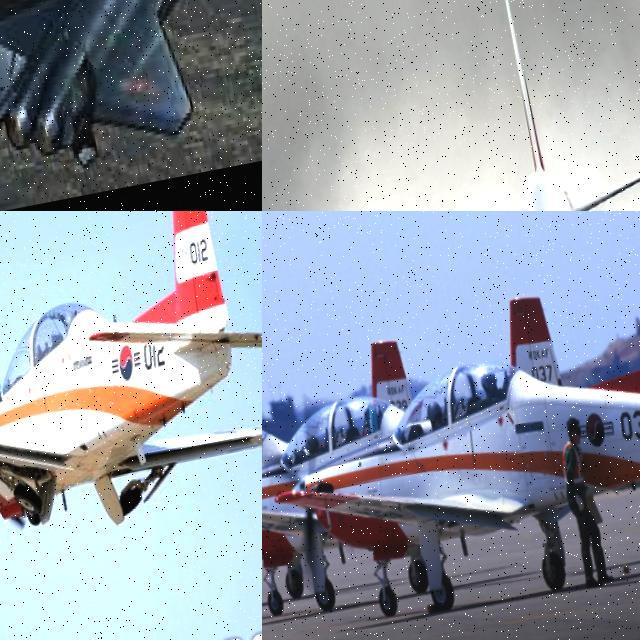A380: (262, 0, 640, 211)
F22: (0, 0, 262, 200)
KT-1: (270, 260, 640, 637), (262, 310, 591, 629), (0, 211, 262, 583), (262, 399, 322, 626)
